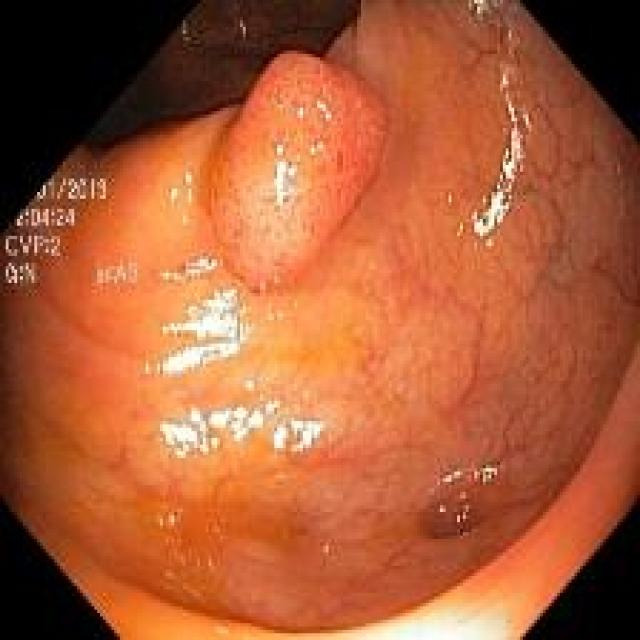Polyps: (212, 52, 389, 293)
